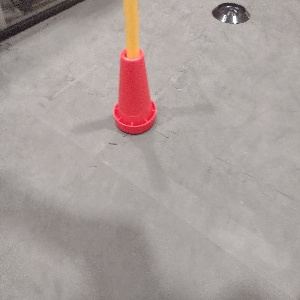Red_1: (110, 47, 158, 134)
